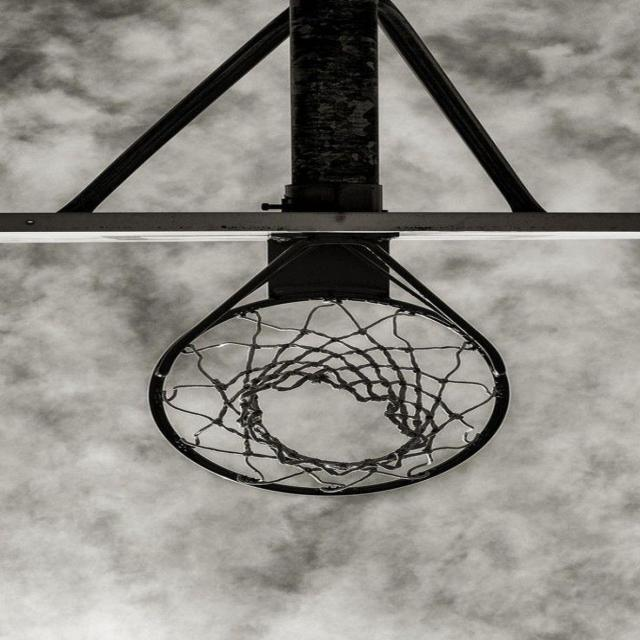hoop: (120, 243, 532, 489)
